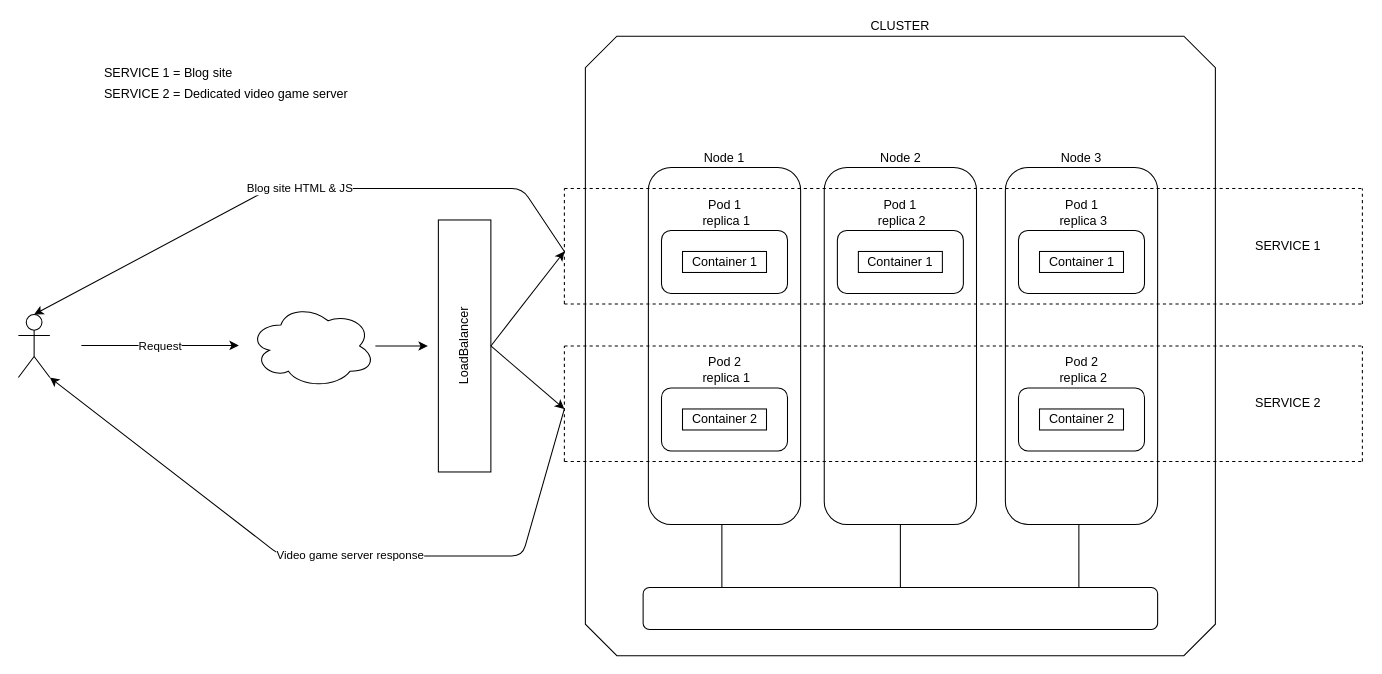
Some shapes in this 1382 by 674 pixel diagram are drawn without their labels. The centre of each missing label's shape, as x and y in pixels:
Cloud: the point at 311,345
Master: the point at 900,607
User: the point at 33,345
